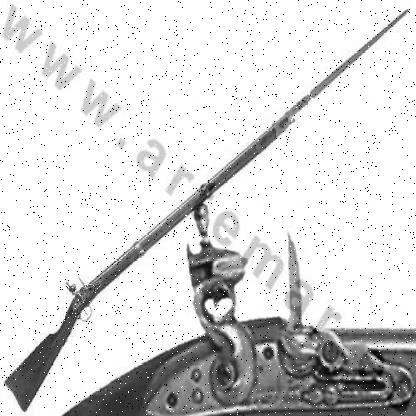rifle: (3, 1, 405, 409)
